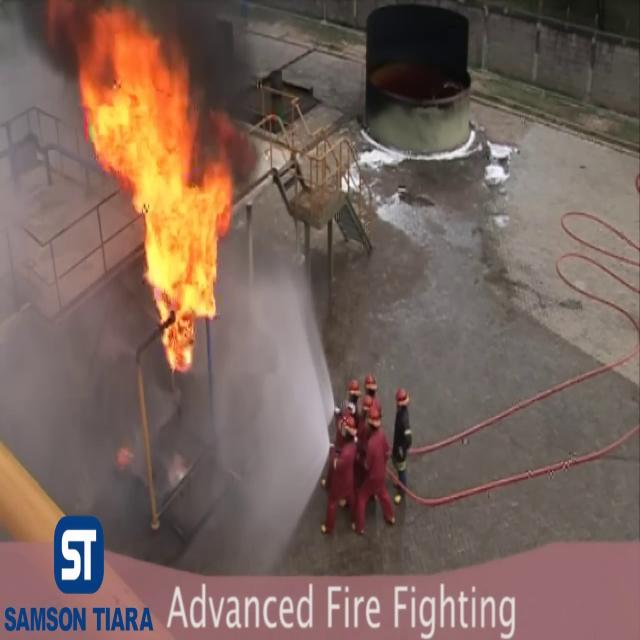Fire: (76, 7, 236, 369)
Smoke: (189, 245, 335, 561)
